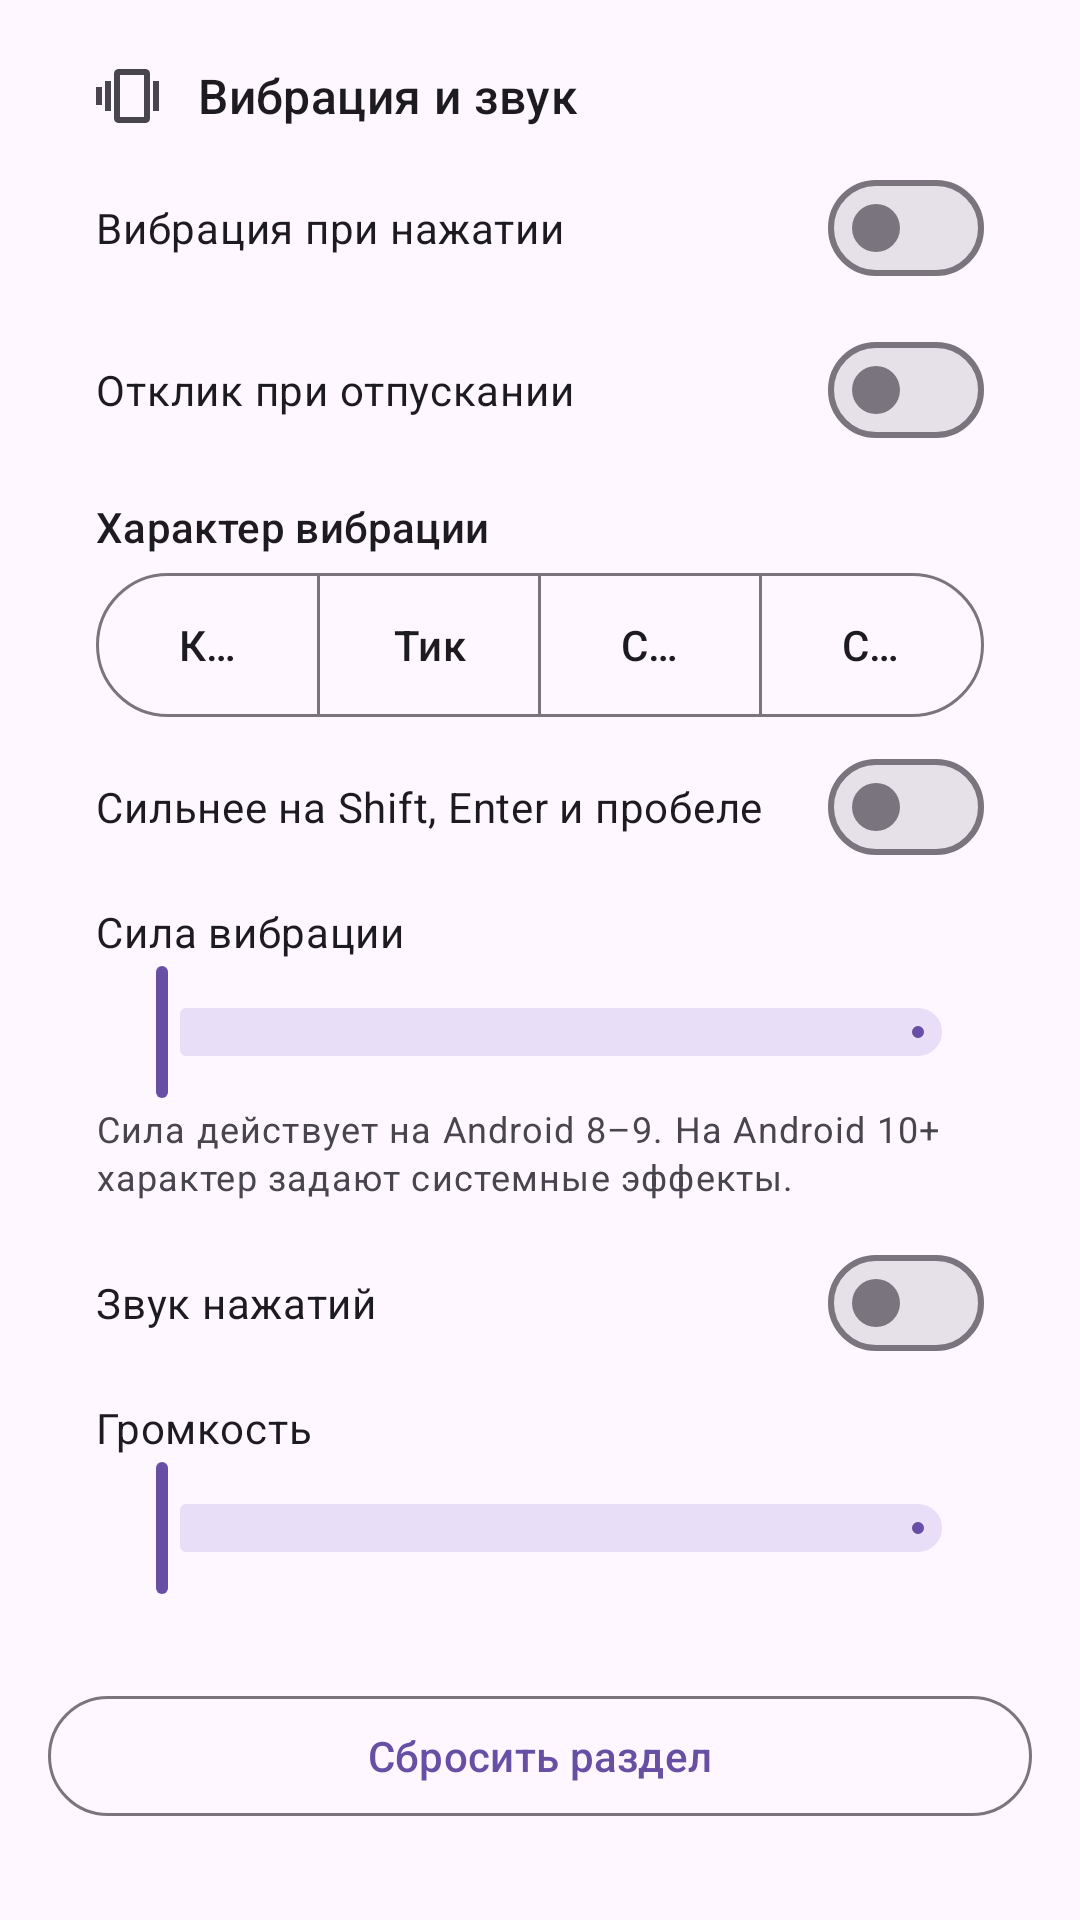

Screen size 1080px×1920px. Icon name, then its center in pixels as (x,y):
feel: (127,96)
